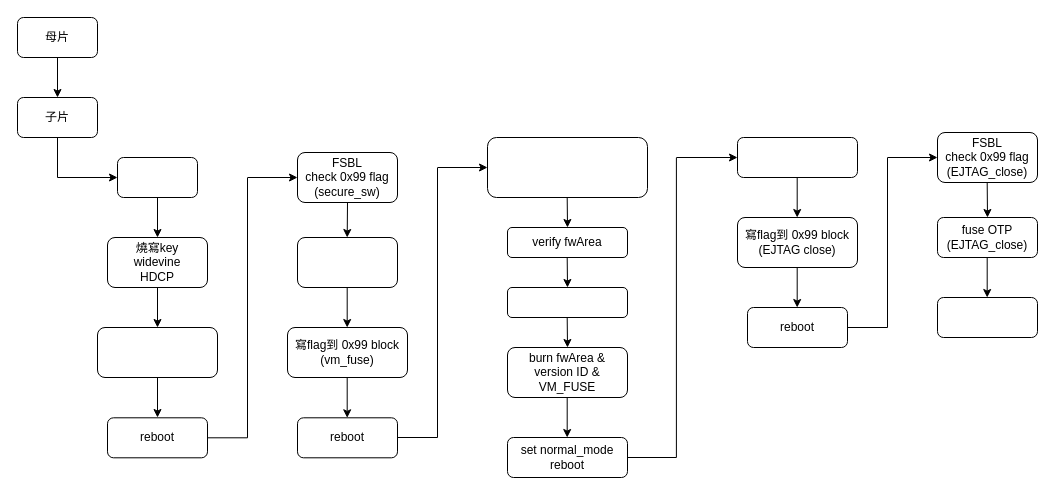
This 1055x495 diagram has some shape labels left out. Each missing label, with the centre of its shape:
"FSBL check 0x99 flag (vm_fuse) && (resuce_mode)" goes at [567,167].
"fuse OTP (secure_sw) (market ID)" goes at [347,262].
"re-encrypt fwArea" goes at [567,302].
"secure boot" goes at [797,157].
"完成高安程序" goes at [987,317].
"寫flag到 0x99 block (secure_sw)" goes at [157,352].
"產測程序" goes at [157,177].
